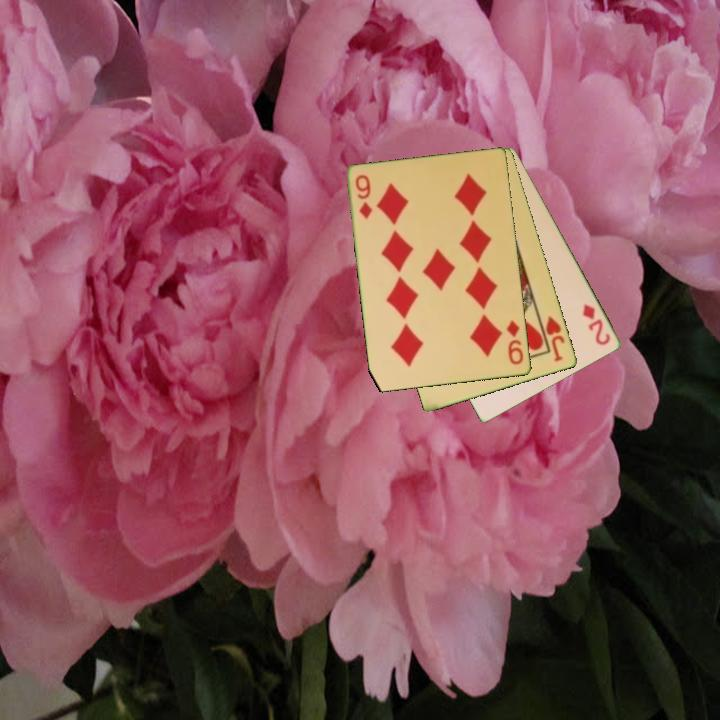2d: (579, 300, 614, 348)
9d: (503, 316, 527, 368), (352, 171, 376, 222)
Jh: (536, 312, 568, 365)
